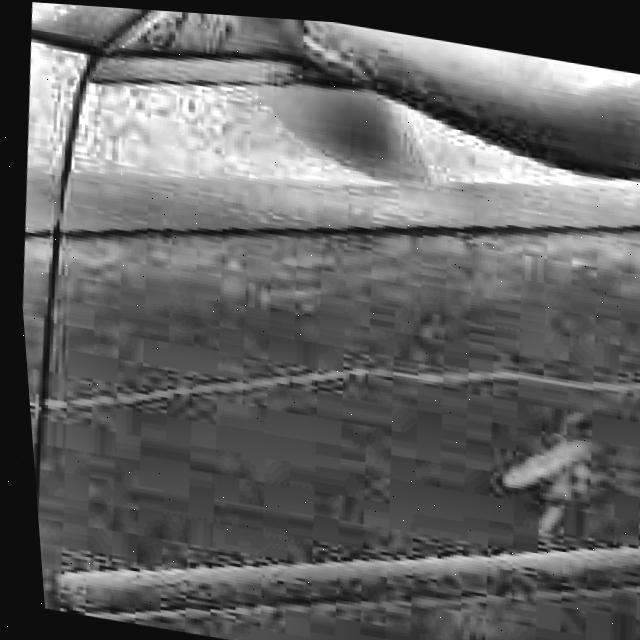door_scratch: (207, 288, 640, 473)
